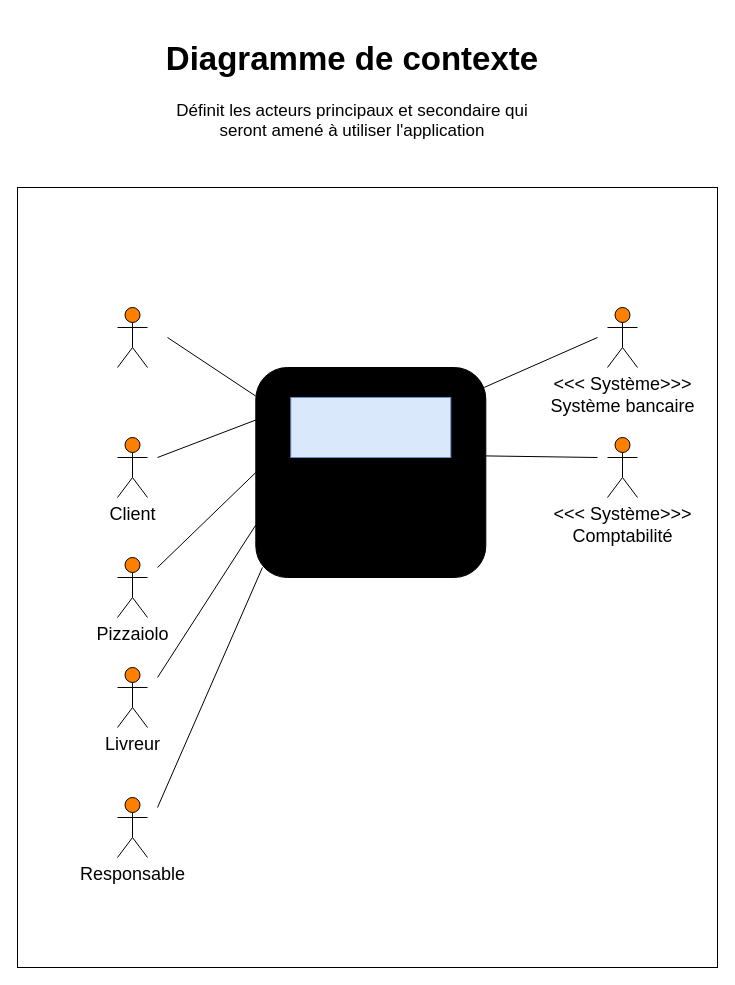
Some shapes in this 735 by 985 pixel diagram are drawn without their labels. Each missing label, with the centre of its shape:
Système de gestion: [370,427]
Visiteur: [132,337]
